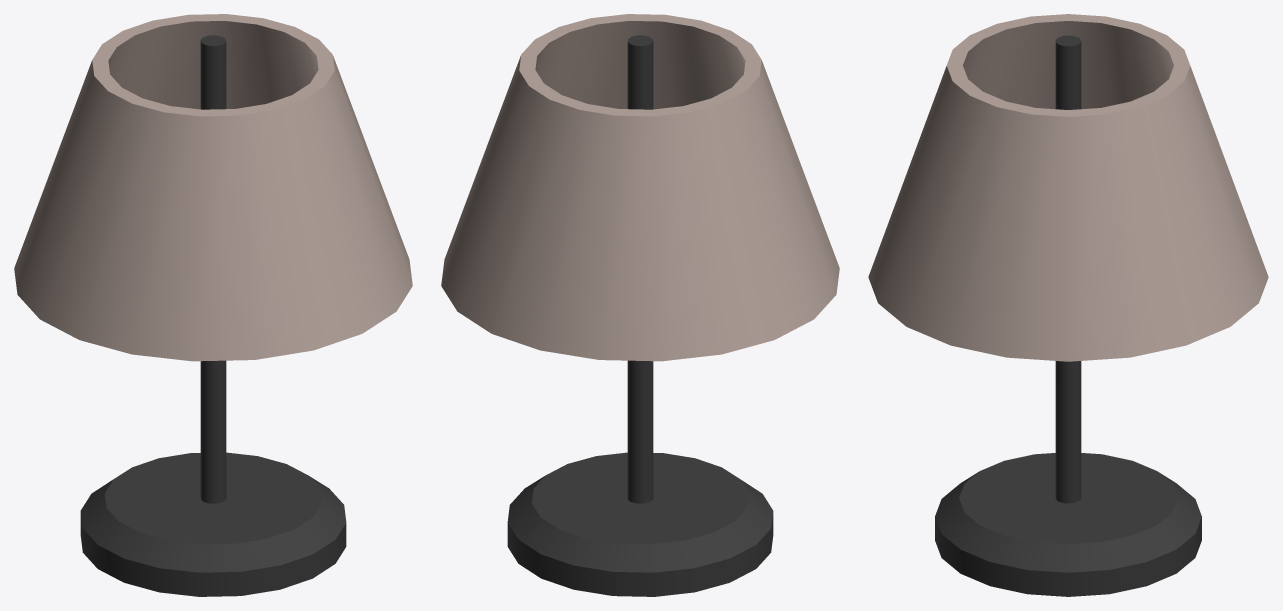
The model's file is Lamp.fbx.
3 renders of one model, left to right at view 1: azimuth 30°, elevation 25°; view 2: azimuth 150°, elevation 25°; view 3: azimuth 270°, elevation 25°, orthographic.
Parts seen in each view (by area): view 1: Lampshade, Lamp; view 2: Lampshade, Lamp; view 3: Lampshade, Lamp.
Boxes of the visible parts, left/top/right/bottom form: Lampshade: left=14, top=14, right=412, bottom=361; Lamp: left=80, top=35, right=346, bottom=596; Lampshade: left=441, top=14, right=839, bottom=361; Lamp: left=507, top=35, right=773, bottom=596; Lampshade: left=868, top=14, right=1268, bottom=361; Lamp: left=935, top=35, right=1201, bottom=596.
Bounding box in the file's own units: 1.5 × 2.07 × 1.5.
